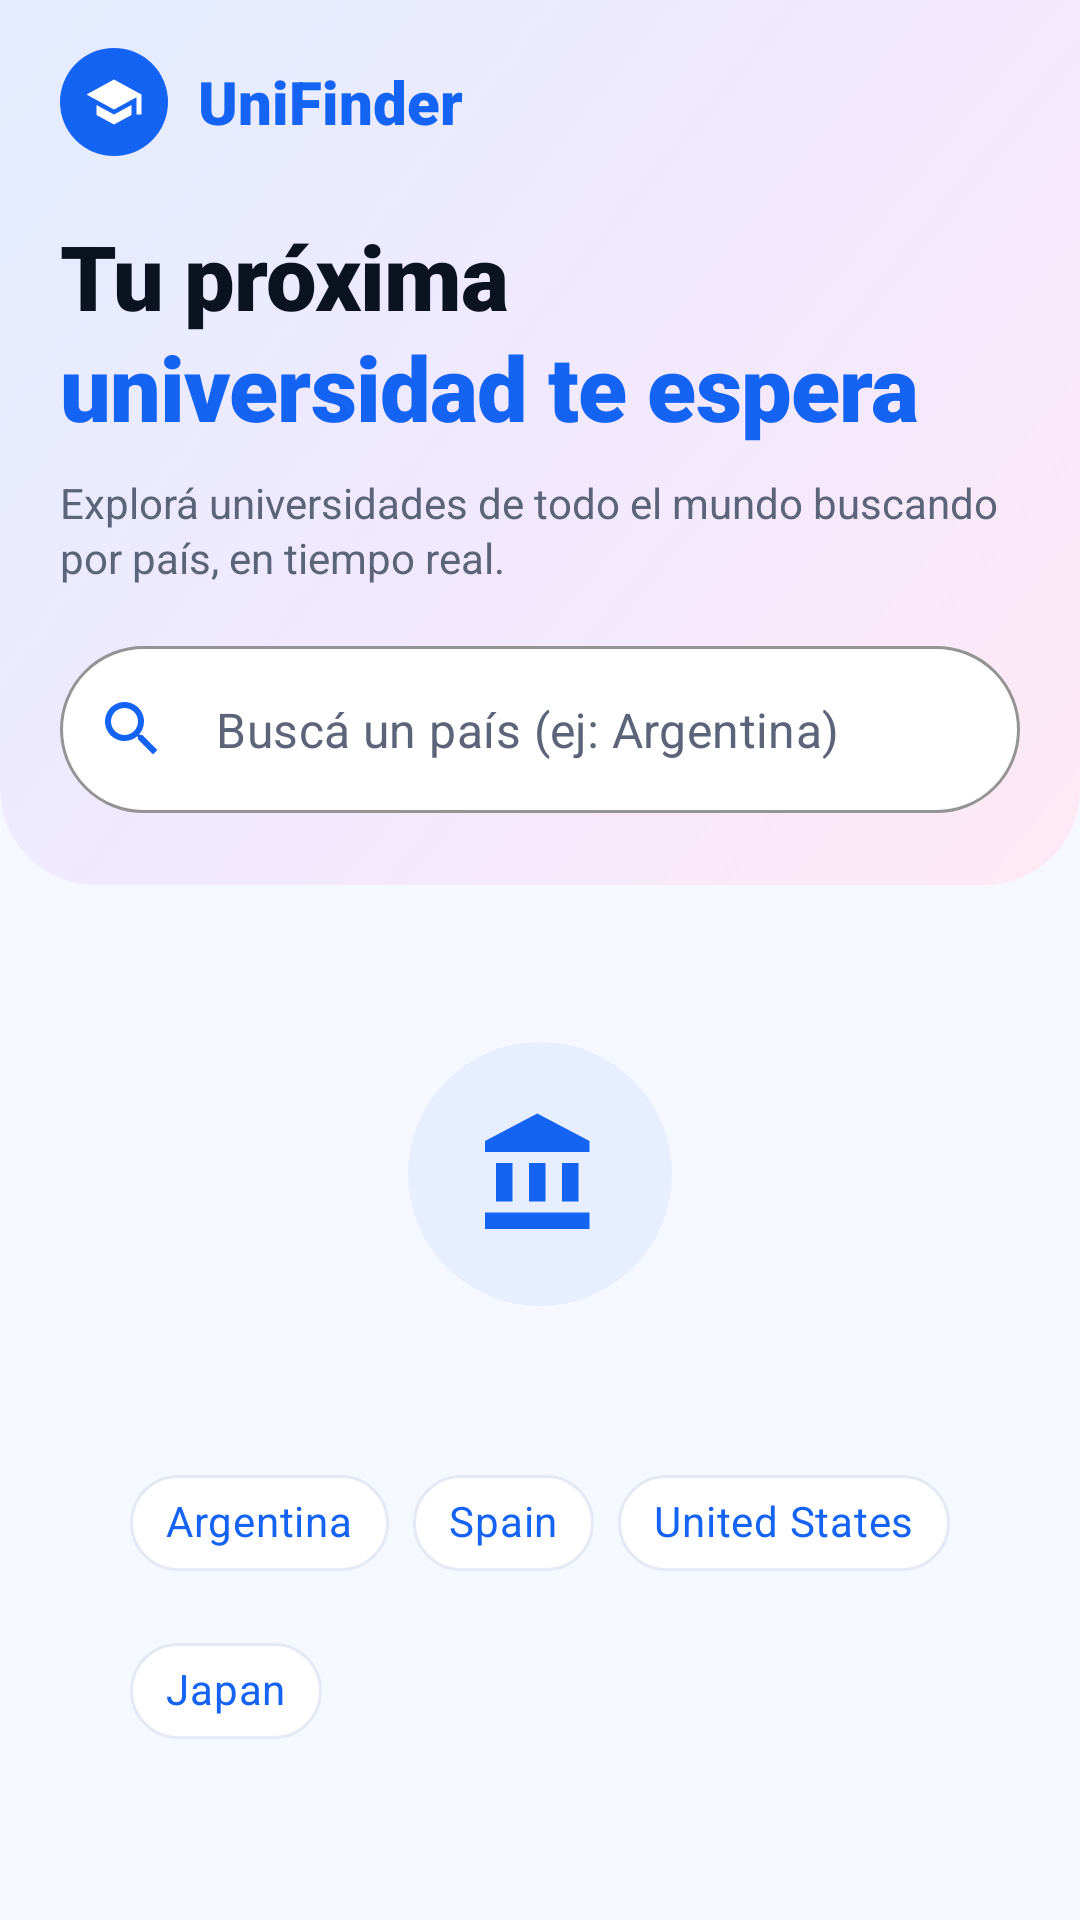

Point at icon controls on the screen. Image size 1080px x 1920px, points as (x=x, y=y).
school: (x=114, y=102)
university: (x=537, y=1171)
